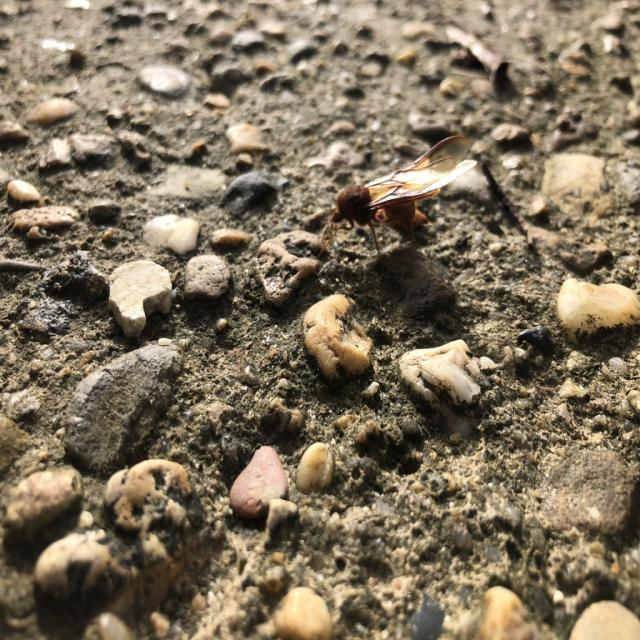Alive-Male-Alate: (314, 133, 478, 260)
